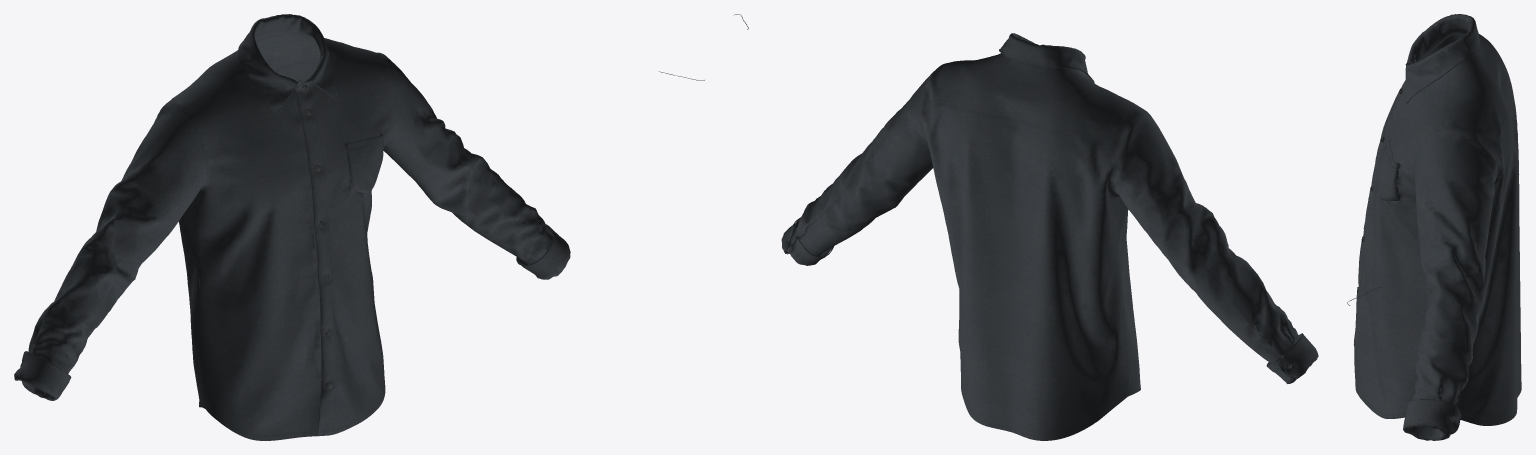
3 renders of one model, left to right at view 1: azimuth 30°, elevation 25°; view 2: azimuth 150°, elevation 25°; view 3: azimuth 270°, elevation 25°, orthographic. The views are drawn at different scales.
Visible parts, largest first — view 1: Shirt, Shirt .001, Shirt .002, Shirt .003; view 2: Shirt .003, Shirt .001, Shirt .002, Shirt; view 3: Shirt, Shirt .002, Shirt .003, Shirt .001.
Part boxes in pixels (bbox=[...]): Shirt: bbox=[184, 14, 395, 440]; Shirt .001: bbox=[14, 103, 206, 400]; Shirt .002: bbox=[383, 58, 570, 279]; Shirt .003: bbox=[167, 33, 388, 408]; Shirt .003: bbox=[921, 53, 1143, 440]; Shirt .001: bbox=[1113, 111, 1318, 383]; Shirt .002: bbox=[781, 69, 936, 265]; Shirt: bbox=[999, 33, 1146, 396]; Shirt: bbox=[1353, 14, 1479, 418]; Shirt .002: bbox=[1403, 128, 1496, 440]; Shirt .003: bbox=[1443, 30, 1521, 425]; Shirt .001: bbox=[1425, 32, 1464, 57].
Size of the model in its own units: 1.16 by 0.67 by 0.2793.
7 materials, 5 textured.
